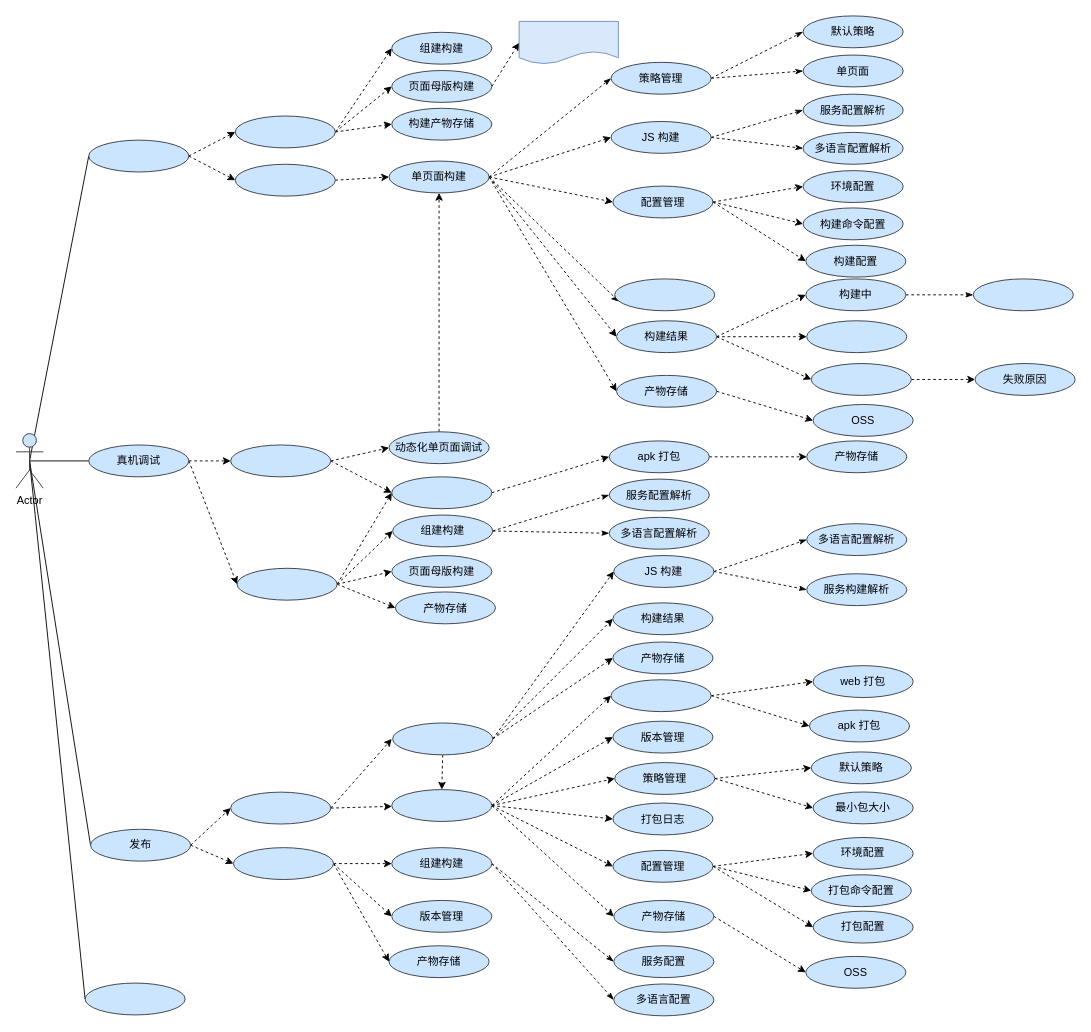
This 1091x1032 diagram has some shape labels left out. The centre of each missing label's shape, as x and y in pixels:
"发布历史" goes at pixel 134 998.
"失败" goes at pixel 860 379.
"应用发布" goes at pixel 280 807.
"应用打包" goes at pixel 441 805.
"应用调试" goes at pixel 280 460.
"成功" goes at pixel 856 336.
"打包类型" goes at pixel 660 695.
"批量构建" goes at pixel 442 738.
"按需全量构建" goes at pixel 441 492.
"构建日志" goes at pixel 664 294.
"构建阶段" goes at pixel 1022 294.
"第一次构建" goes at pixel 568 42.
"组件" goes at pixel 284 131.
"组件发布" goes at pixel 283 863.
"组件调试" goes at pixel 286 583.
"调试" goes at pixel 138 155.
"页面" goes at pixel 284 179.
